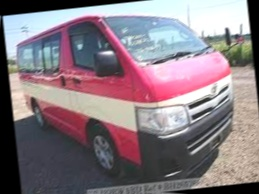van: (11, 2, 241, 183)
